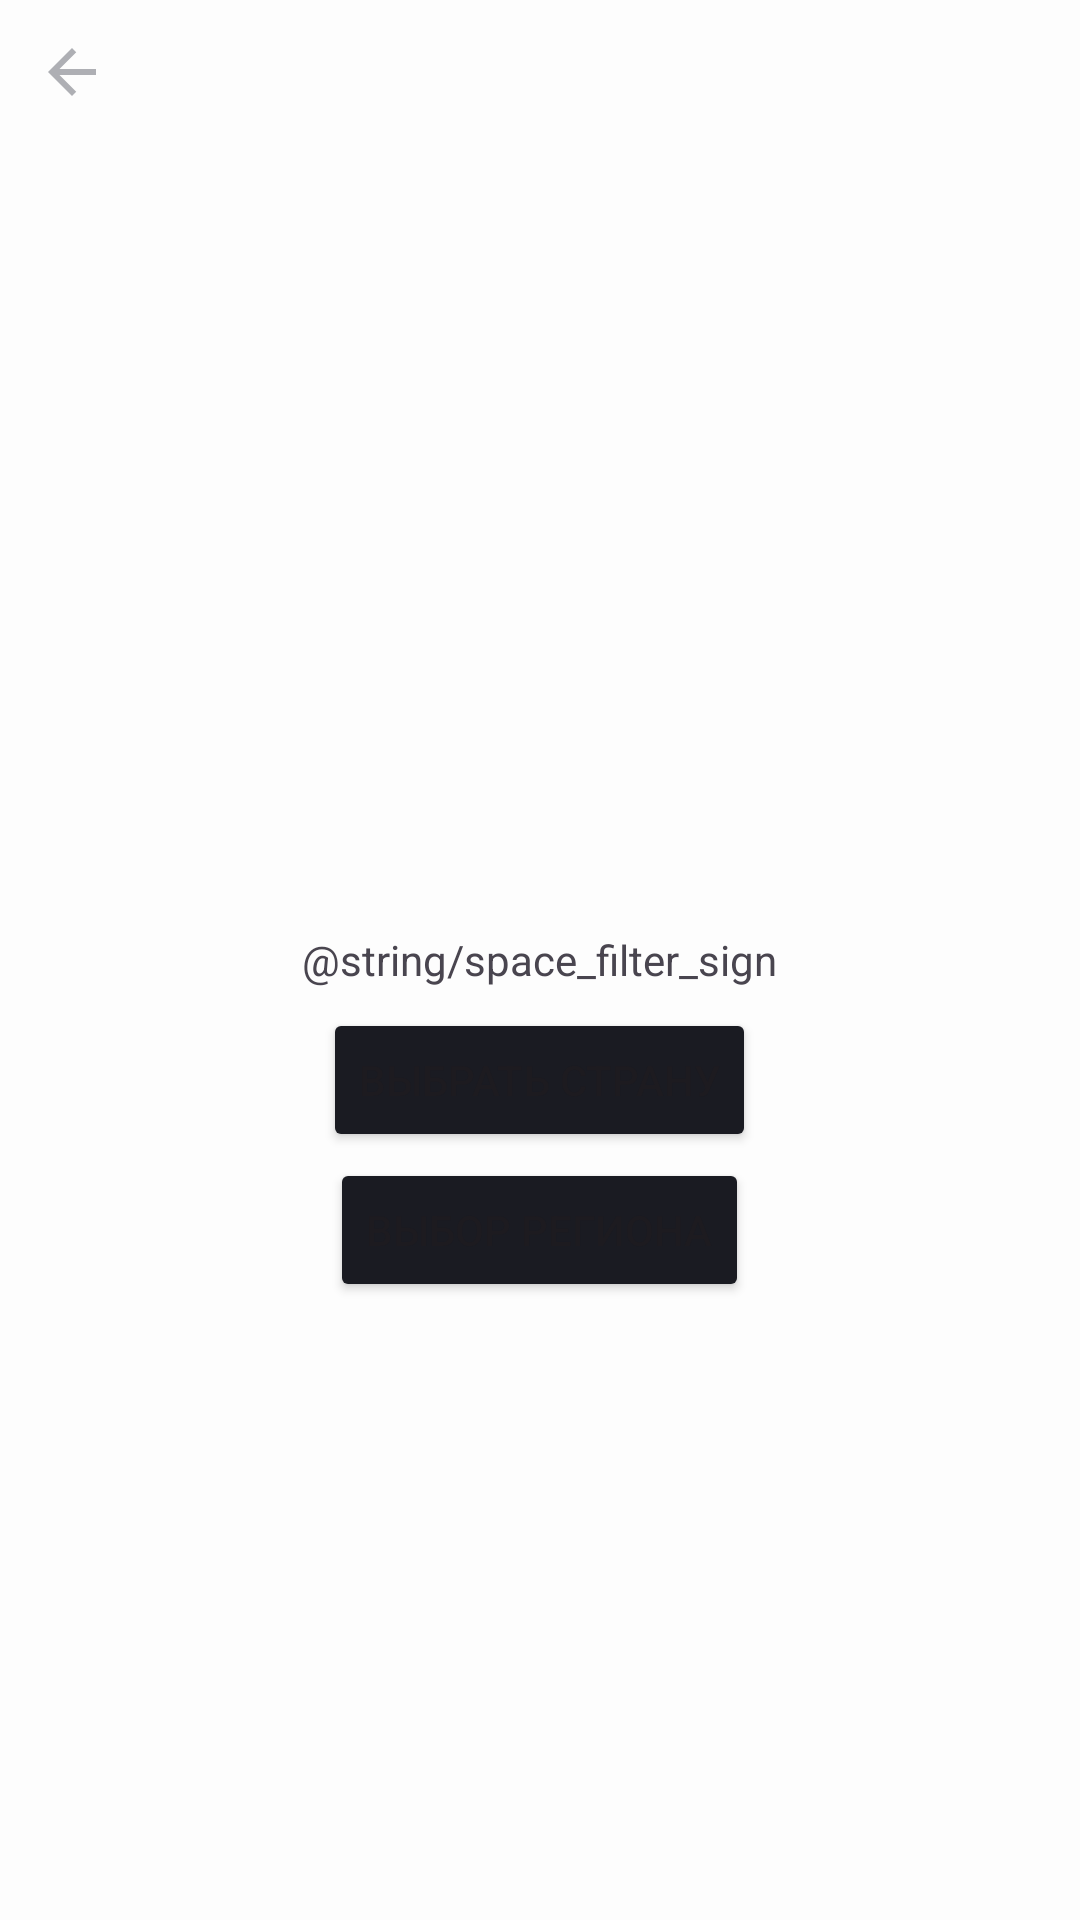

Named icons in this screenshot (1080*1920) and their centers, (x,y):
back arrow: (72,72)
